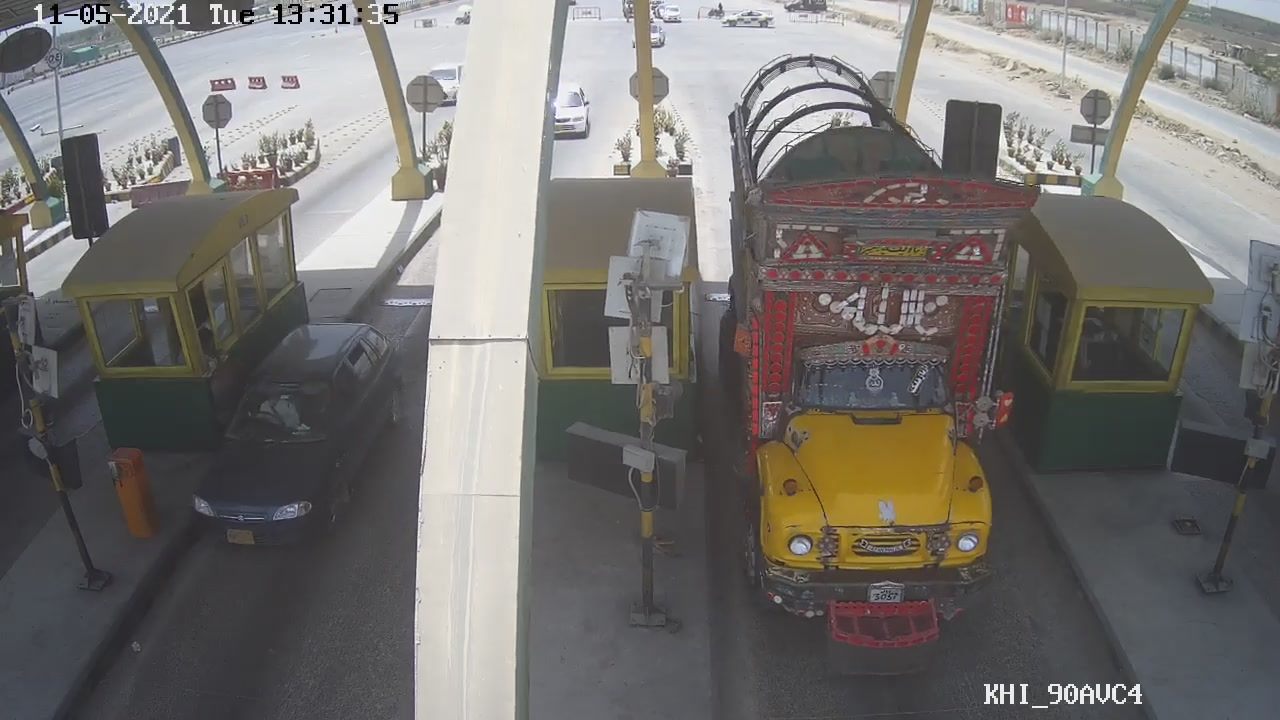F5: (705, 95, 1038, 621)
